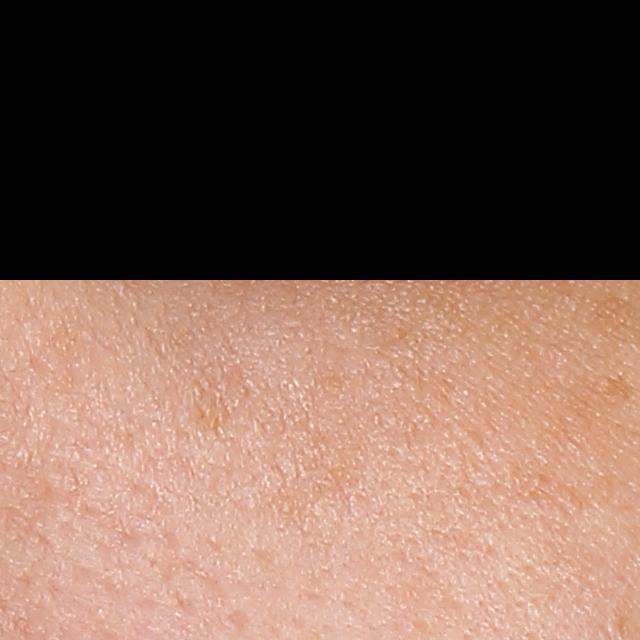melasma: (186, 358, 257, 440)
